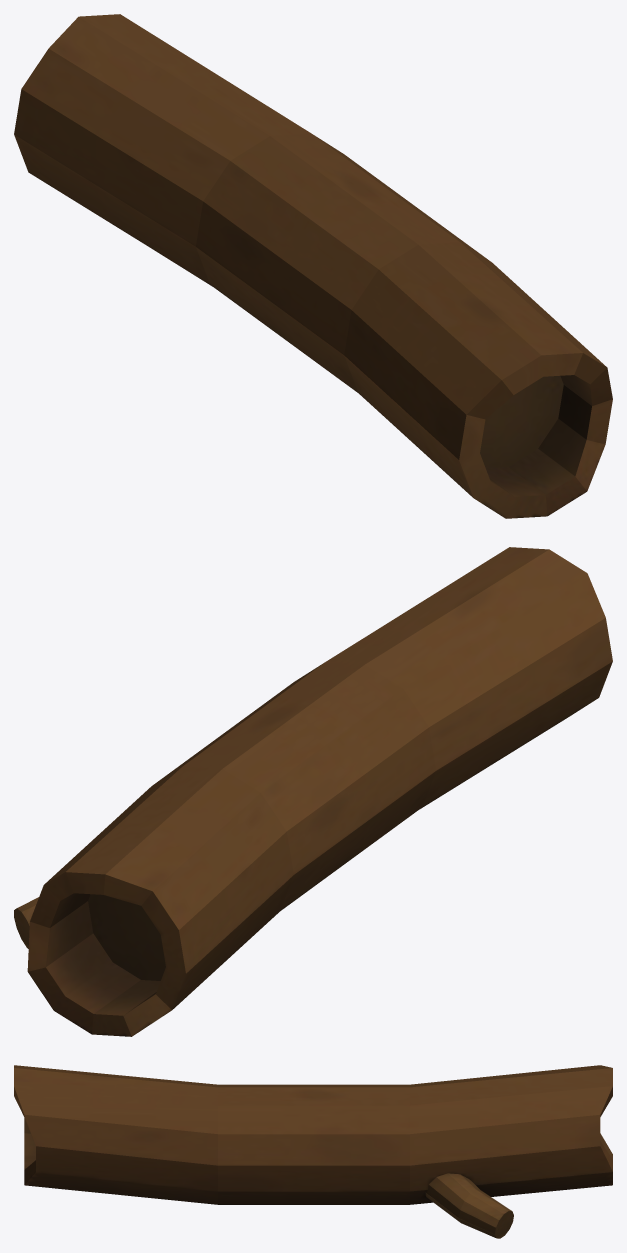
File: beech_branch1.gltf
3 renders of one model, top to bottom at view 1: azimuth 30°, elevation 25°; view 2: azimuth 150°, elevation 25°; view 3: azimuth 270°, elevation 25°, orthographic. The views are drawn at different scales.
Visible parts, largest first — view 1: BeechBranch1; view 2: BeechBranch1; view 3: BeechBranch1.
Part boxes in pixels (left/top/right/bottom): BeechBranch1: left=14, top=14, right=612, bottom=518; BeechBranch1: left=14, top=547, right=612, bottom=1036; BeechBranch1: left=14, top=1065, right=612, bottom=1238.
Bounding box in the file's own units: 2.14 × 1.44 × 6.59.
1 material, 1 textured.
